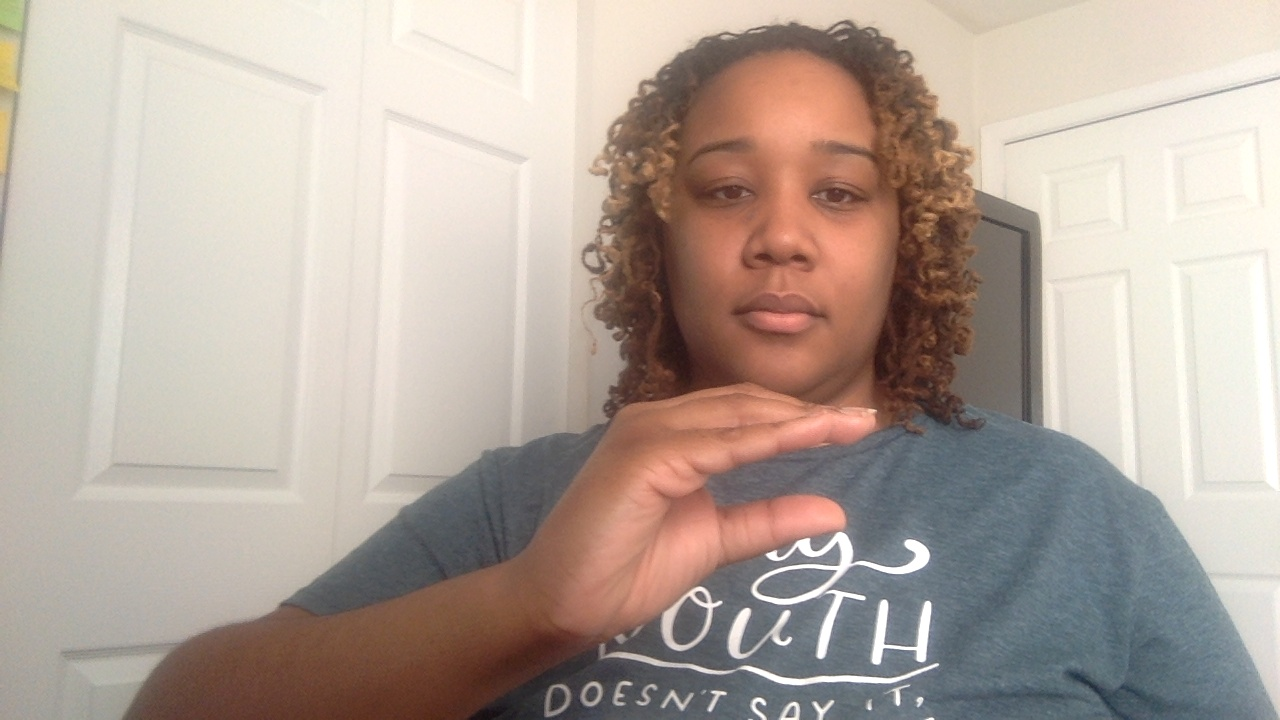no: (525, 376, 886, 654)
